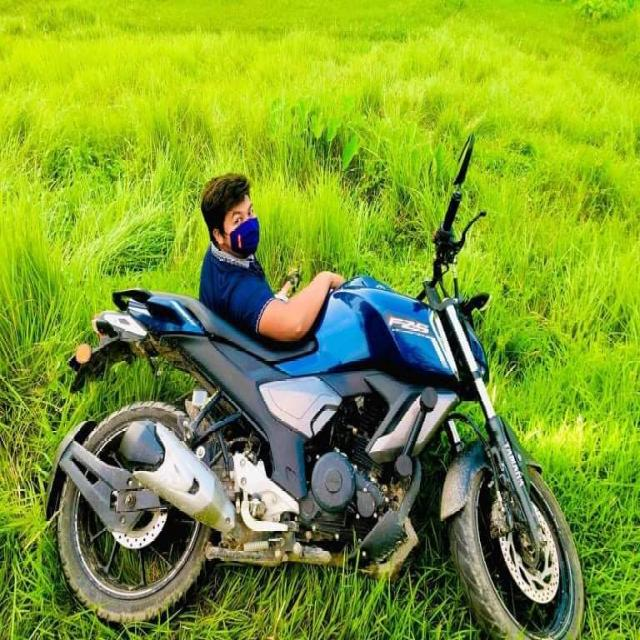Not Wearing Helmet: (200, 156, 279, 282)
